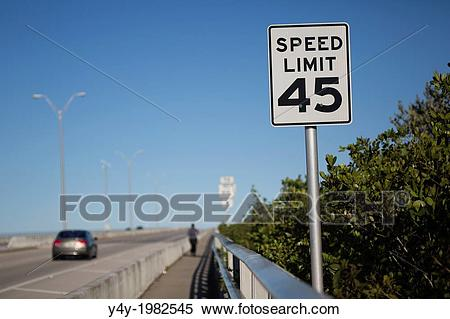speed limit: (257, 17, 377, 156)
